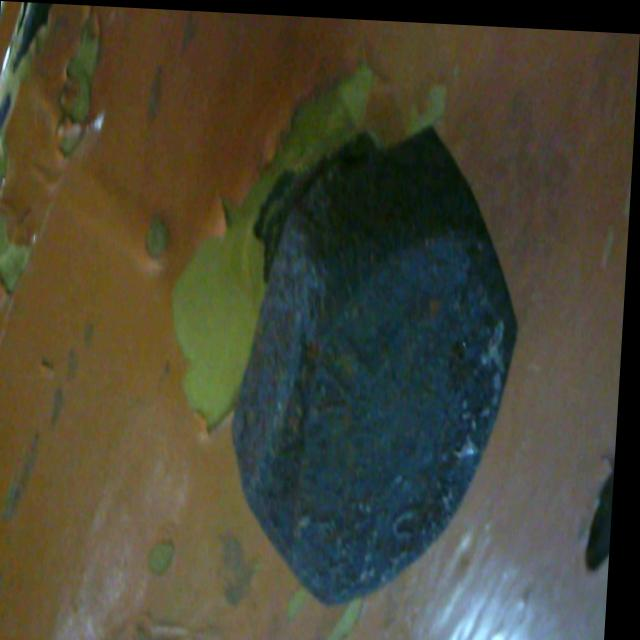Loose bolt: (231, 106, 531, 608)
Missing bolt: (591, 461, 621, 572)
Rusty bolt: (229, 104, 534, 609)
